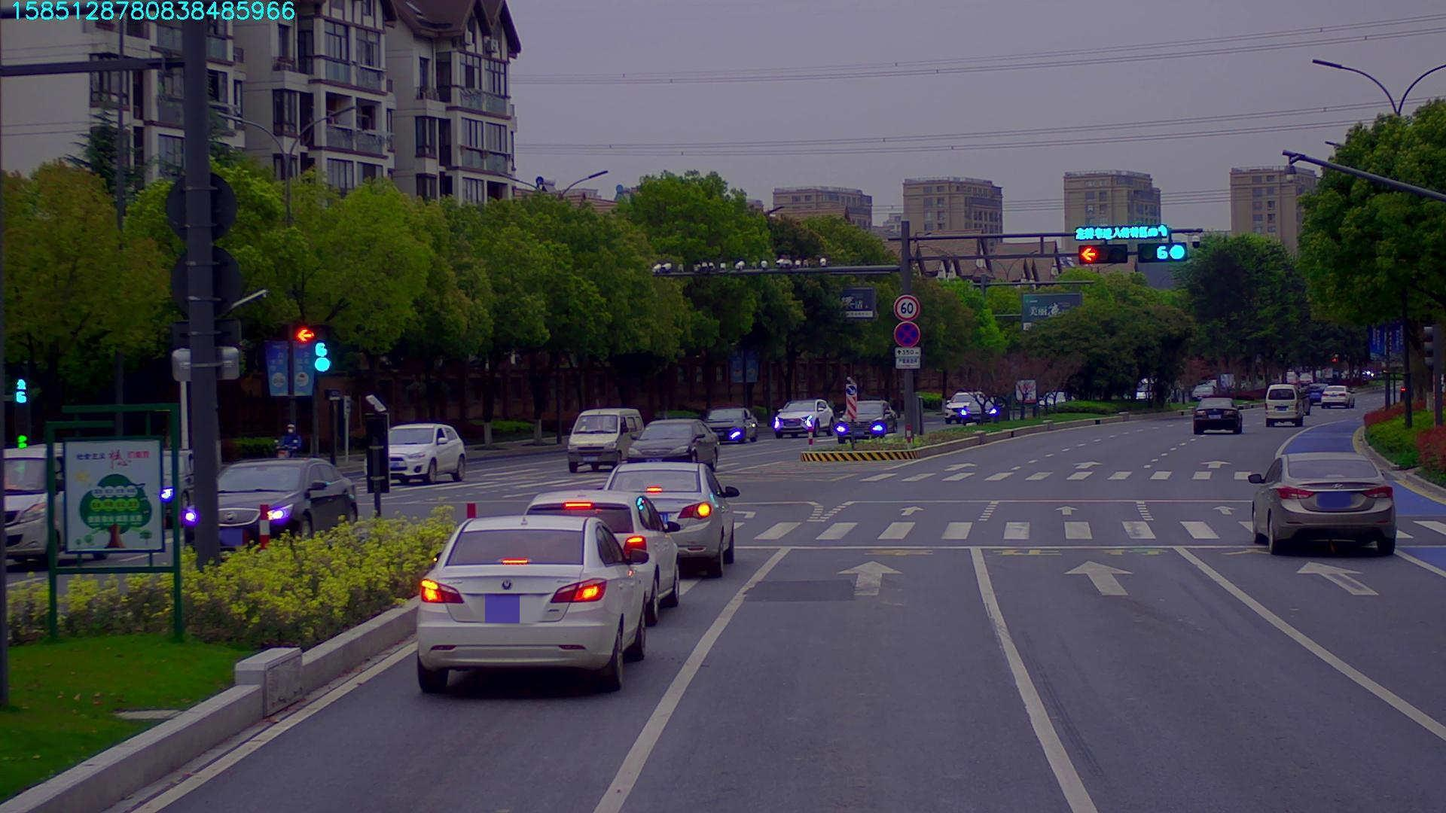green: (1143, 247, 1185, 262)
red: (1076, 247, 1126, 262)
wait_on: (1075, 224, 1171, 238)
